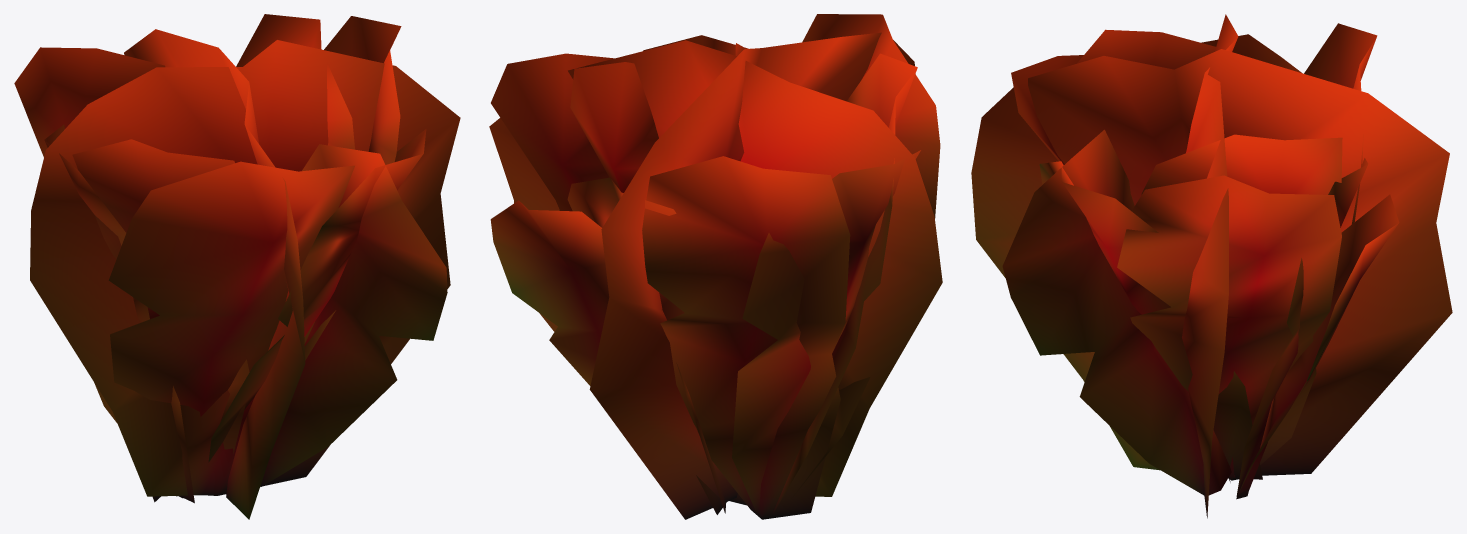
File: RabbitBushRHEP_E.fbx
The picture shows the model from 3 angles, left to right: view 1: azimuth 30°, elevation 25°; view 2: azimuth 150°, elevation 25°; view 3: azimuth 270°, elevation 25°; orthographic projection. The views are drawn at different scales.
Parts seen in each view (by area): view 1: RabbitBushRHEPE_LOD0; view 2: RabbitBushRHEPE_LOD0; view 3: RabbitBushRHEPE_LOD0.
Part boxes in pixels (left/top/right/bottom): RabbitBushRHEPE_LOD0: left=14, top=14, right=460, bottom=519; RabbitBushRHEPE_LOD0: left=489, top=14, right=942, bottom=519; RabbitBushRHEPE_LOD0: left=971, top=14, right=1452, bottom=518.
Size of what is drawn, in the model's own units: 1.83 by 1.77 by 1.78.
